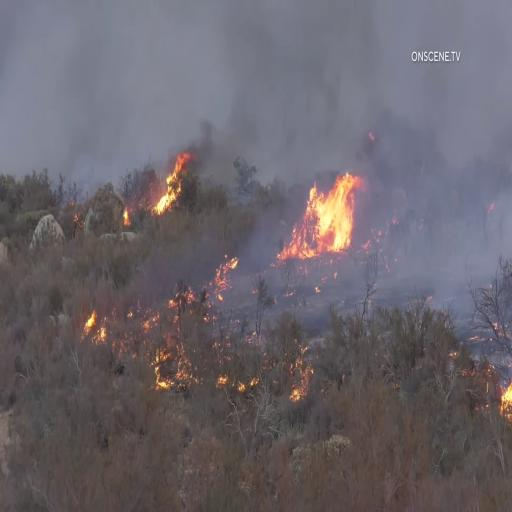fire: (296, 174, 352, 252), (151, 156, 190, 212)
smoke: (185, 36, 234, 178)
